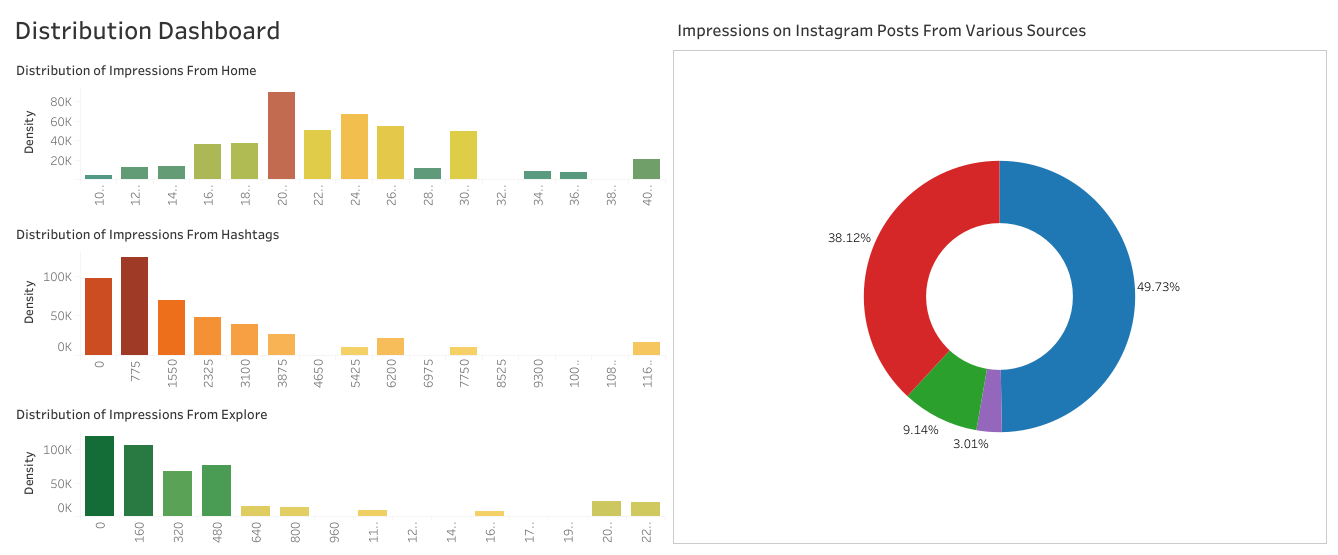

What the dashboard file says about the page in this screenshot:
{"tool":"tableau","page":{"name":"Distribution Dashboard","canvas":[1000,1000],"units":"permille","ordinal":0},"visuals":[{"type":"worksheet","title":"Distribution of Impressions From Home","mark":"Bar","rows":["Impressions"],"cols":["From Home (bin)"],"box":[2.6,3.2,456.3,328.1]},{"type":"worksheet","title":"Impressions on Instagram Posts From Various Sources","mark":"Pie","rows":["Calculation_722264853499809792","Calculation_722264853499809792"],"box":[458.9,3.2,539.4,995.2]},{"type":"worksheet","title":"Distribution of Impressions From Hashtags","mark":"Bar","rows":["Impressions"],"cols":["From Hashtags (bin)"],"box":[2.6,331.2,456.3,339.1]},{"type":"worksheet","title":"Distribution of Impressions From Explore","mark":"Bar","rows":["Impressions"],"cols":["From Explore (bin)"],"box":[2.6,670.4,456.3,328.1]}]}

Visuals, with their boxes on the dashboard's canvas, which has no fixed pixel size, in thousandths of its width and height (x1, y1, x2, y2). These are canvas units, not pixel positions in the 1338x555 screenshot, which may show the page scaled, cropped or inside an application window:
"Distribution of Impressions From Home" worksheet (Bar marks): <box>3,3,459,331</box>
"Impressions on Instagram Posts From Various Sources" worksheet (Pie marks): <box>459,3,998,998</box>
"Distribution of Impressions From Hashtags" worksheet (Bar marks): <box>3,331,459,670</box>
"Distribution of Impressions From Explore" worksheet (Bar marks): <box>3,670,459,998</box>
